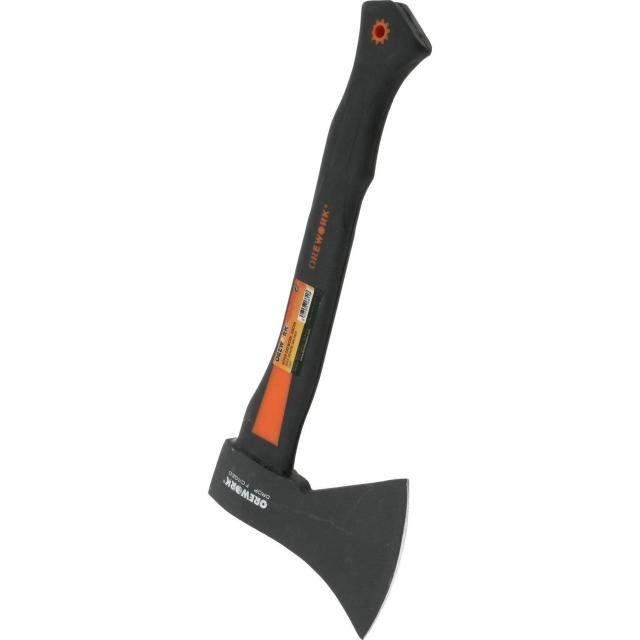Kapak: (191, 28, 434, 580)
